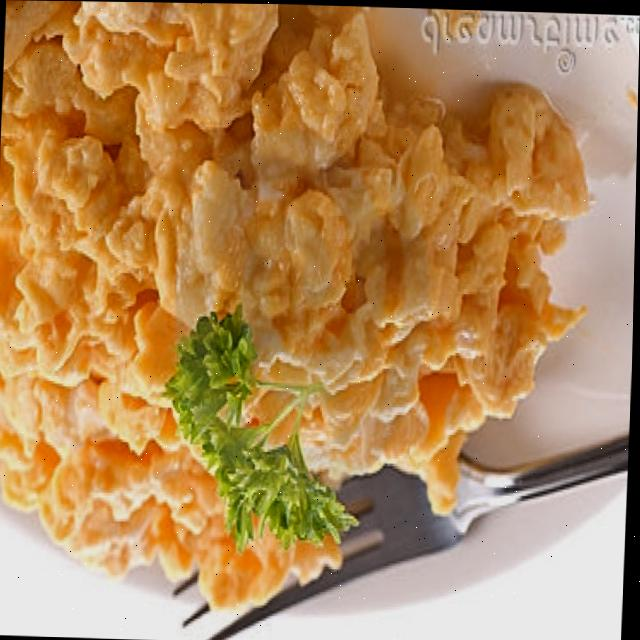鸡蛋料理: (0, 0, 601, 626)
